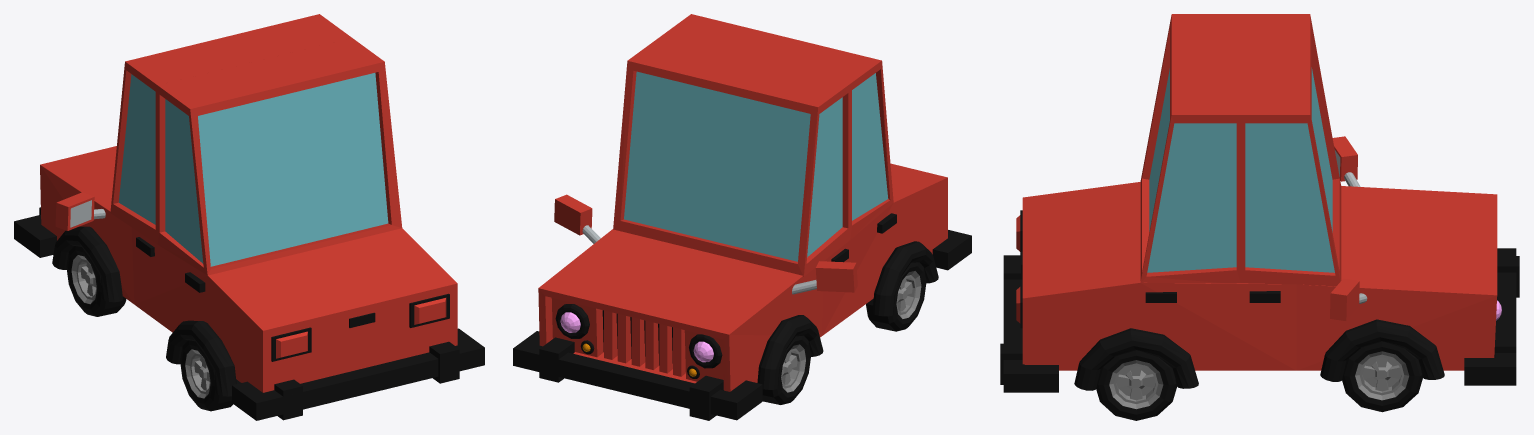
3 views of the same model, side by side, from view 1: azimuth 30°, elevation 25°; view 2: azimuth 150°, elevation 25°; view 3: azimuth 270°, elevation 25° (orthographic). The views are drawn at different scales.
Visible parts, largest first — view 1: node_MeshObject1987191616-PolyPaper22; view 2: node_MeshObject1987191616-PolyPaper22, node_MeshObject223717568-PolyPaper13, node_MeshObject1706038272-PolyGem25; view 3: node_MeshObject1987191616-PolyPaper22.
Part boxes in pixels (x1=…): node_MeshObject1987191616-PolyPaper22: x1=14, y1=14, x2=484, y2=420; node_MeshObject1987191616-PolyPaper22: x1=513, y1=14, x2=971, y2=420; node_MeshObject223717568-PolyPaper13: x1=582, y1=225, x2=912, y2=376; node_MeshObject1706038272-PolyGem25: x1=560, y1=312, x2=713, y2=362; node_MeshObject1987191616-PolyPaper22: x1=1000, y1=14, x2=1519, y2=420.
Size of the model in its own units: 1.08 by 0.9688 by 1.5.
